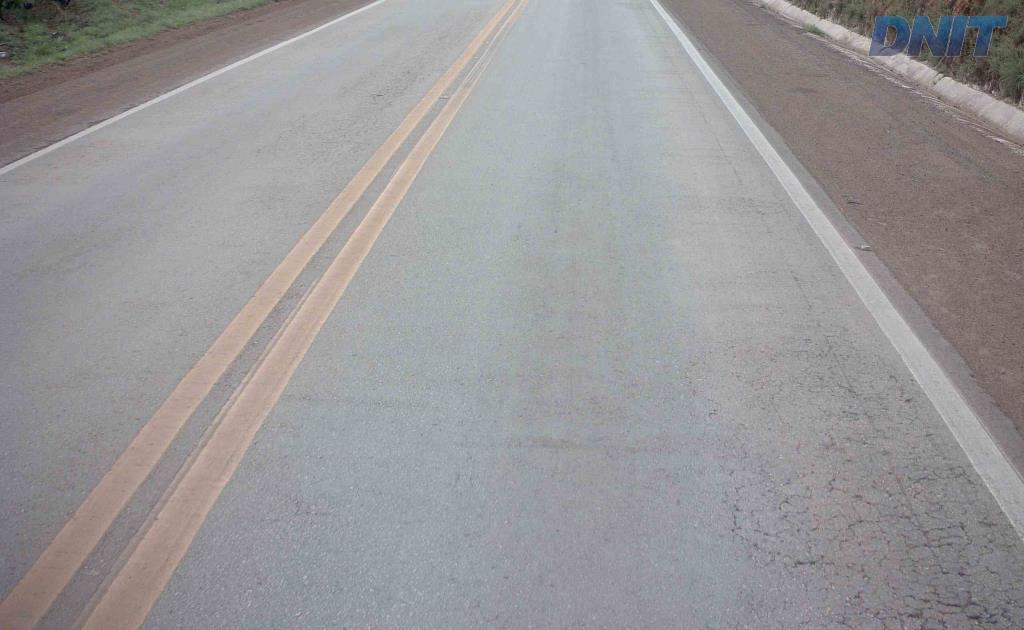crack: (897, 508, 1023, 629)
